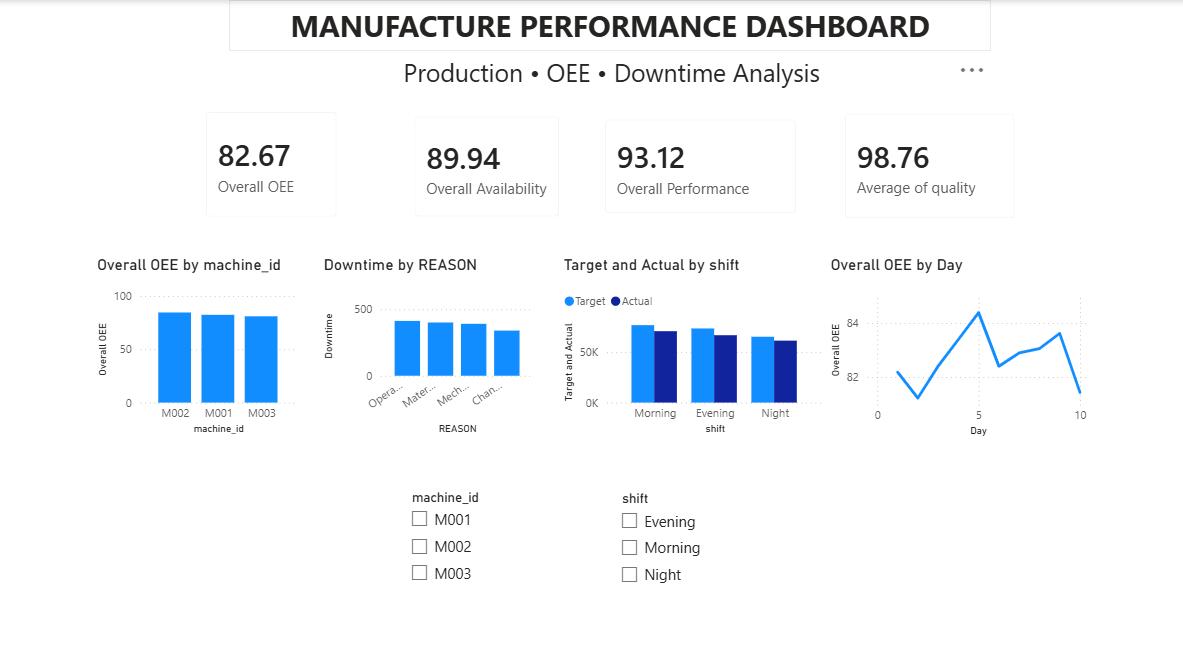

What the dashboard file says about the page in this screenshot:
{"tool":"powerbi","page":{"name":"Page 1","canvas":[1280,720],"ordinal":0},"visuals":[{"type":"cardVisual","fields":{"Data":["Avg(manufac_kpi.oee)"]},"box":[207.3,104.2,175,147.5],"z":0},{"type":"cardVisual","fields":{"Data":["Avg(manufac_kpi.availability)"]},"box":[432.3,109.2,190,142.5],"z":1000},{"type":"cardVisual","fields":{"Data":["Avg(manufac_kpi.performance)"]},"box":[637.3,111.7,240,135],"z":2000},{"type":"cardVisual","fields":{"Data":["Avg(manufac_kpi.quality)"]},"box":[897.3,105,217.5,147.5],"z":3000},{"type":"clusteredColumnChart","fields":{"Category":["manufac_kpi.machine_id"],"Y":["Avg(manufac_kpi.oee)"]},"box":[101.9,275.6,225,198.3],"z":4000},{"type":"clusteredColumnChart","fields":{"Y":["Sum(downtime.MINUTES)"],"Category":["downtime.REASON"]},"box":[346.9,275.6,236.7,198.3],"z":5000},{"type":"clusteredColumnChart","fields":{"Category":["manufac_kpi.shift"],"Y":["Sum(manufac_kpi.target_qty)","Sum(manufac_kpi.actual_qty)"]},"box":[605.2,275.6,290,198.3],"z":6000},{"type":"lineChart","fields":{"Category":["manufac_kpi.production_date.Variation.Date Hierarchy.Day"],"Y":["Avg(manufac_kpi.oee)"]},"box":[894.4,275,288.9,200],"z":7000},{"type":"slicer","fields":{"Values":["manufac_kpi.machine_id"]},"box":[433.3,522.2,150,147.2],"z":8000},{"type":"slicer","fields":{"Values":["manufac_kpi.shift"]},"box":[661.1,525,150,150],"z":9000},{"type":"textbox","box":[250,0,822.5,55],"z":10000},{"type":"textbox","box":[383.3,55.6,557.5,57.5],"z":11000}]}

Visuals, with their boxes in screenshot pixels (x1, y1, x2, y2), scaled from the page's 1280x720 canvas onto the 1183x665 screenshot:
cardVisual - Avg(manufac_kpi.oee): <bbox>192, 96, 353, 232</bbox>
cardVisual - Avg(manufac_kpi.availability): <bbox>400, 101, 575, 232</bbox>
cardVisual - Avg(manufac_kpi.performance): <bbox>589, 103, 811, 228</bbox>
cardVisual - Avg(manufac_kpi.quality): <bbox>829, 97, 1030, 233</bbox>
clusteredColumnChart - manufac_kpi.machine_id x Avg(manufac_kpi.oee): <bbox>94, 255, 302, 438</bbox>
clusteredColumnChart - Sum(downtime.MINUTES) x downtime.REASON: <bbox>321, 255, 539, 438</bbox>
clusteredColumnChart - manufac_kpi.shift x Sum(manufac_kpi.target_qty): <bbox>559, 255, 827, 438</bbox>
lineChart - manufac_kpi.production_date.Variation.Date Hierarchy.Day x Avg(manufac_kpi.oee): <bbox>827, 254, 1094, 439</bbox>
slicer - manufac_kpi.machine_id: <bbox>400, 482, 539, 618</bbox>
slicer - manufac_kpi.shift: <bbox>611, 485, 750, 623</bbox>
textbox: <bbox>231, 0, 991, 51</bbox>
textbox: <bbox>354, 51, 870, 104</bbox>
